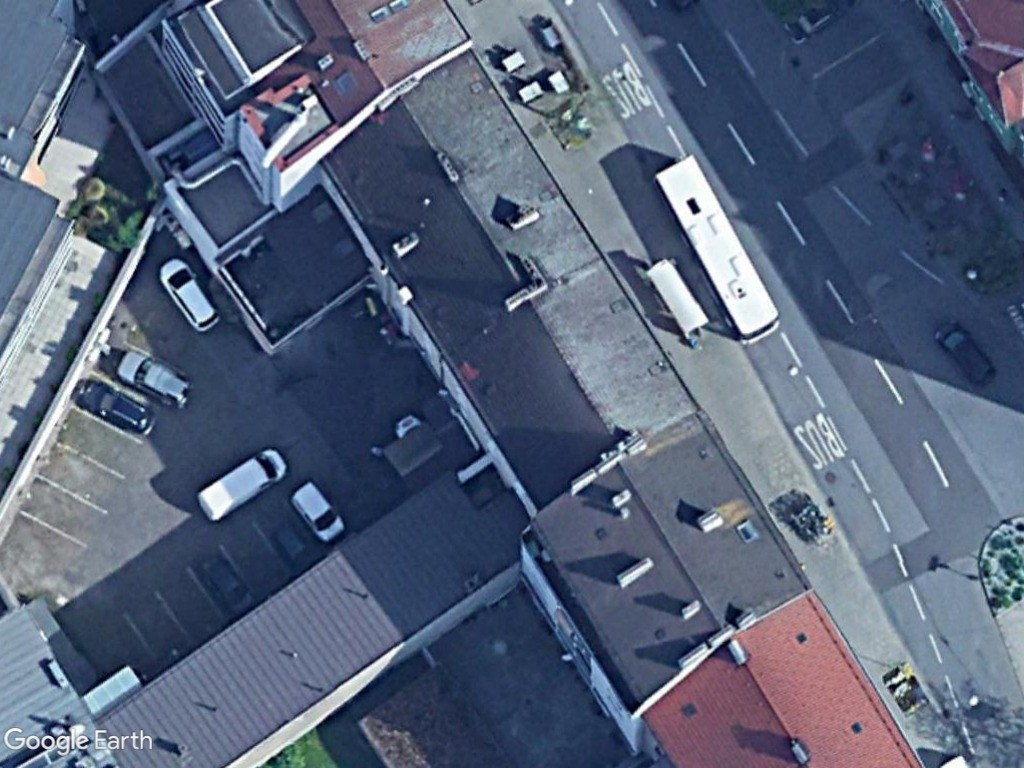bus: (647, 146, 782, 357)
car: (76, 378, 160, 438), (158, 256, 221, 335), (931, 319, 1000, 391), (117, 348, 192, 410), (292, 474, 348, 549)
van: (195, 441, 290, 524)
